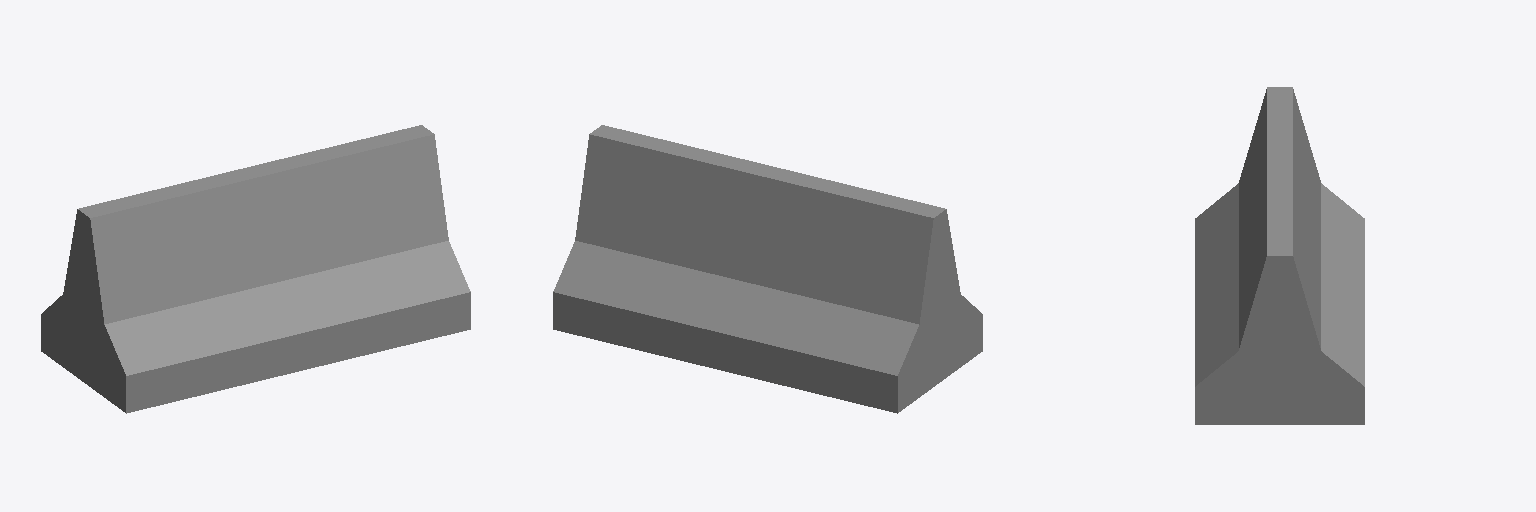
Rendered from ConcreteBlock.obj.
3 views of the same model, side by side, from view 1: azimuth 30°, elevation 25°; view 2: azimuth 150°, elevation 25°; view 3: azimuth 270°, elevation 25° (orthographic).
Parts seen in each view (by area): view 1: ConcreteBlock_Cube.086; view 2: ConcreteBlock_Cube.086; view 3: ConcreteBlock_Cube.086.
Boxes of the visible parts, <box> form: ConcreteBlock_Cube.086: <box>41,125,470,413</box>; ConcreteBlock_Cube.086: <box>553,125,982,413</box>; ConcreteBlock_Cube.086: <box>1195,87,1364,424</box>.
Size of the model in its own units: 3.28 by 1.54 by 1.4.